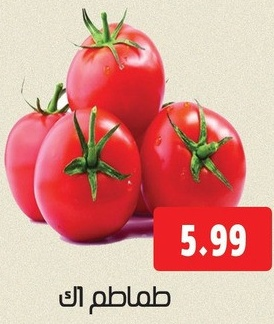descrip: (55, 278, 175, 320)
img: (4, 9, 249, 237)
price_after: (173, 220, 251, 262)
